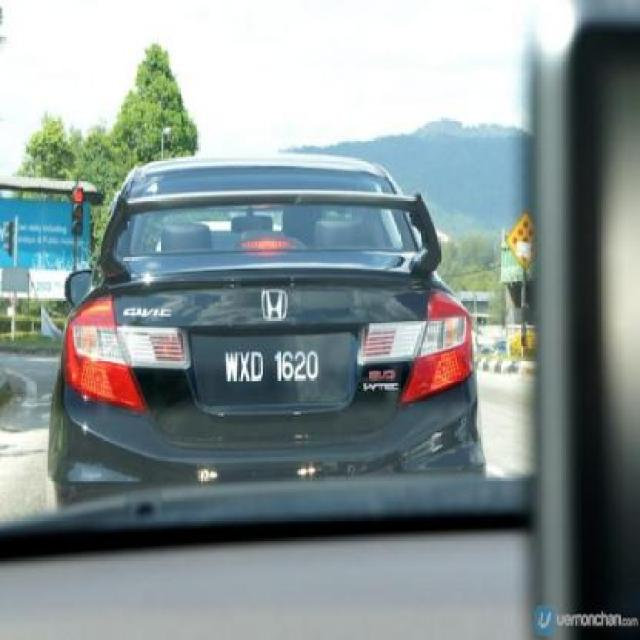License-Plates: (199, 334, 347, 400)
